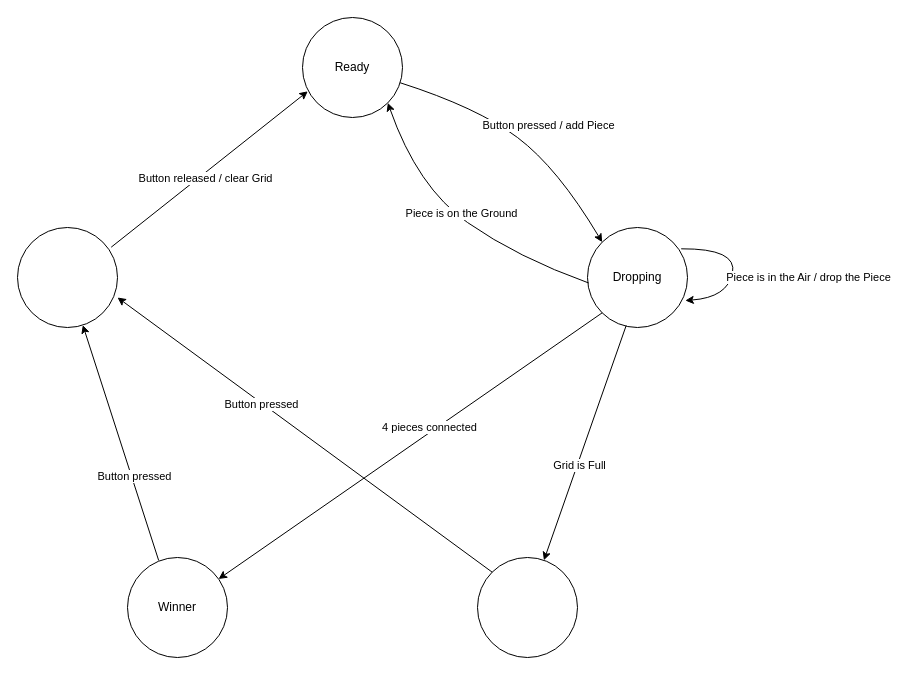
Some shapes in this 908 by 675 pixel diagram are drawn without their labels. Here are the shapes that lost their labels. From the top down, the box of each, then its label:
(16, 226, 118, 328): Reset
(476, 556, 578, 658): Draw
